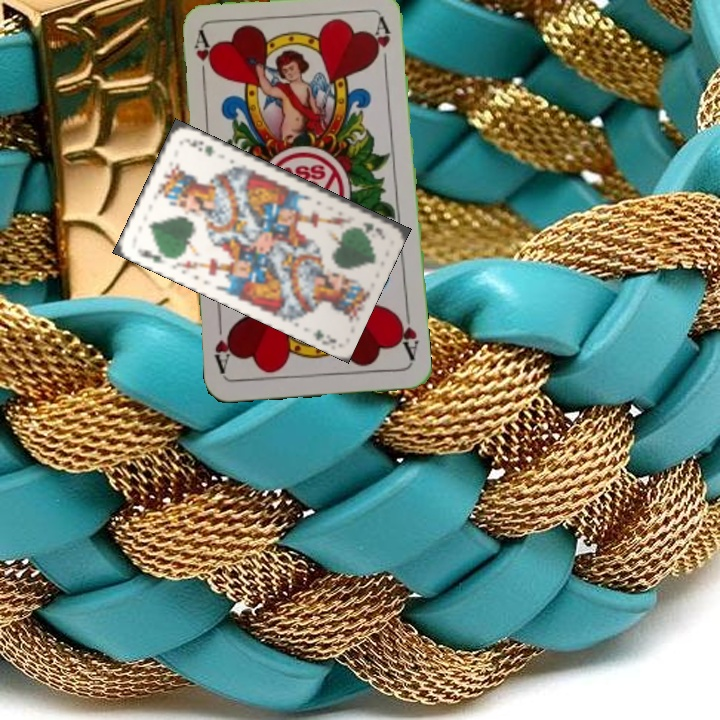GK: (133, 245, 168, 266), (359, 218, 384, 238)
HA: (392, 305, 422, 363), (190, 28, 217, 87)
